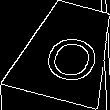O_N: (32, 21, 101, 83)
